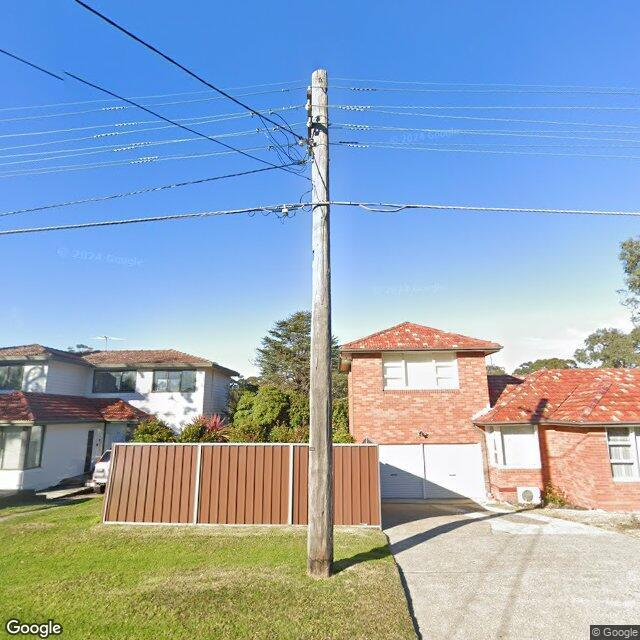crossarm: (306, 92, 314, 156)
timber-pole: (306, 67, 334, 580)
